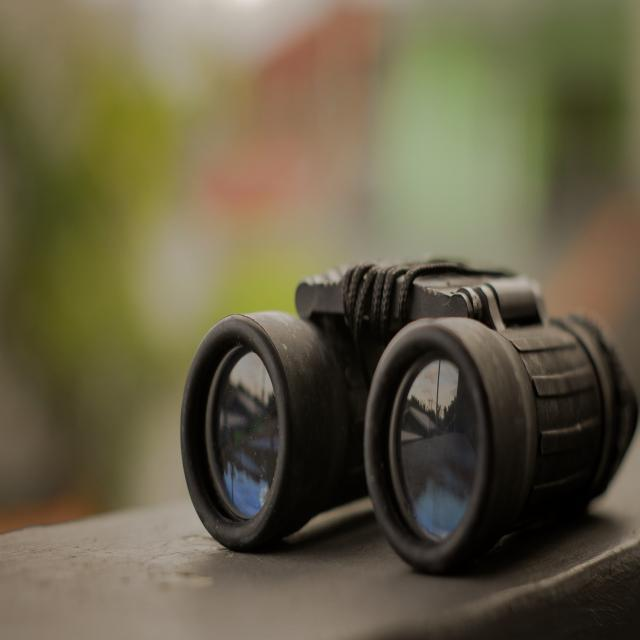Binocular: (170, 246, 640, 576)
